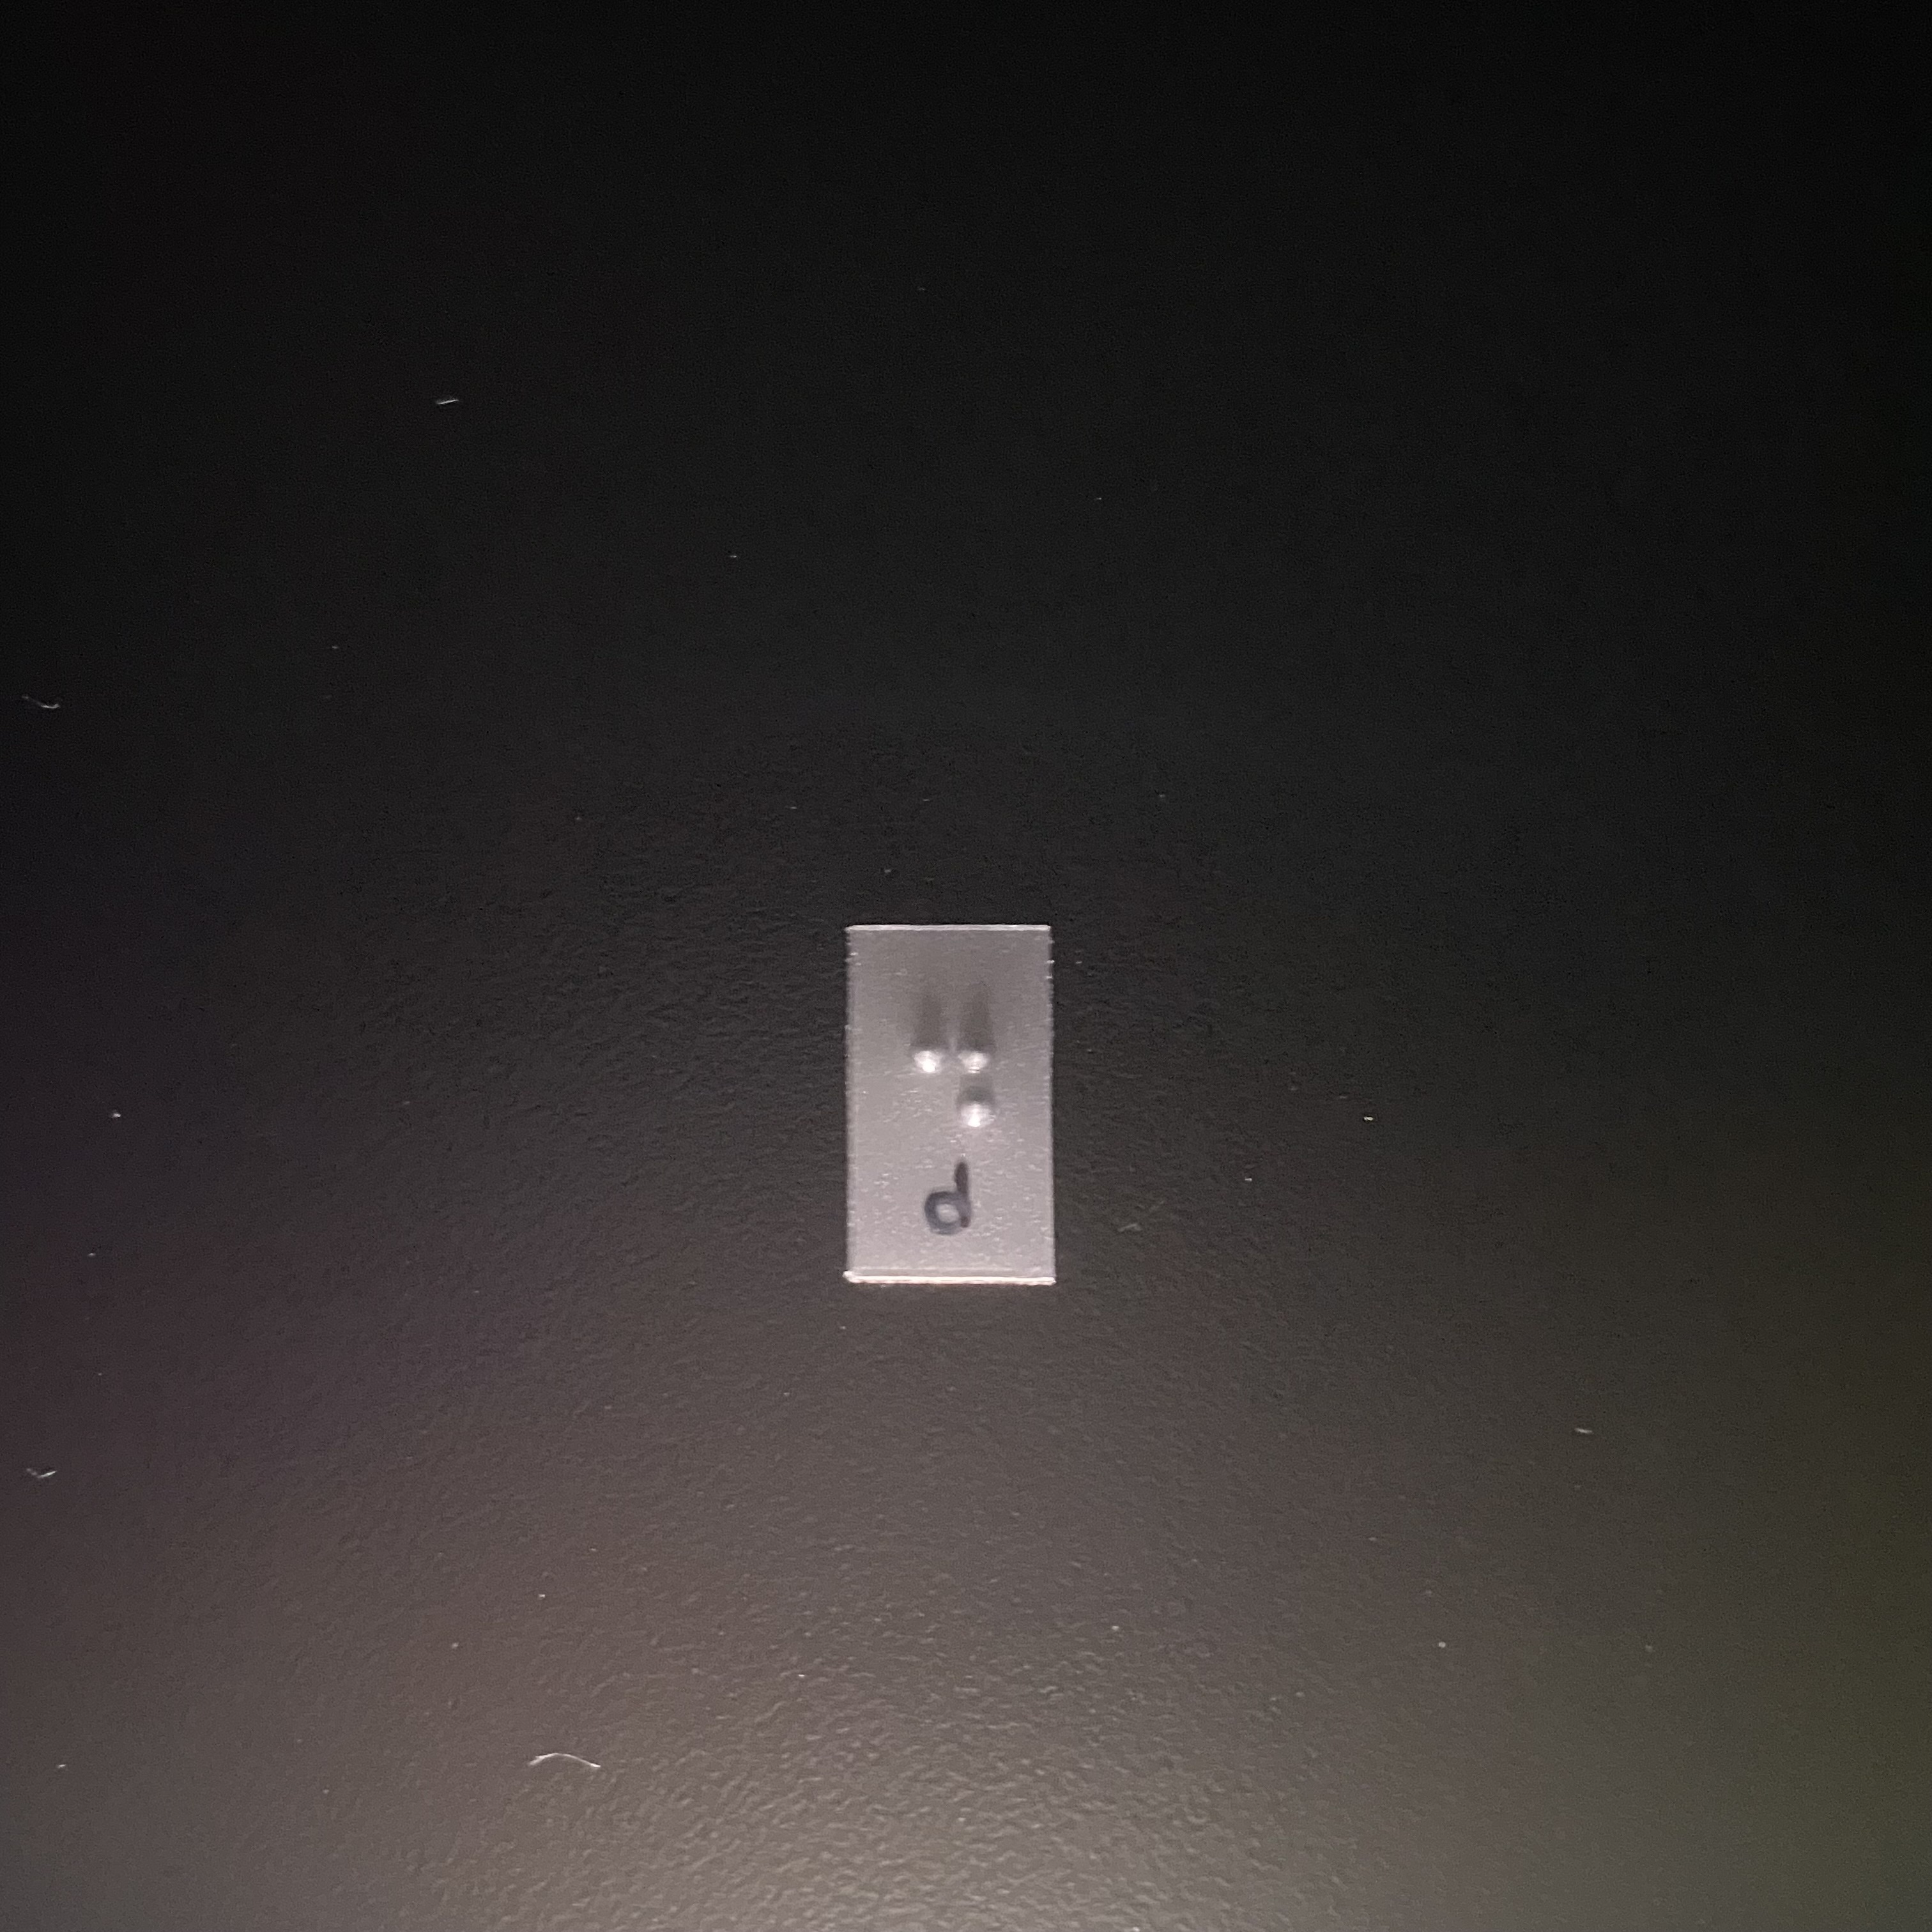d: (893, 1015, 1008, 1211)
